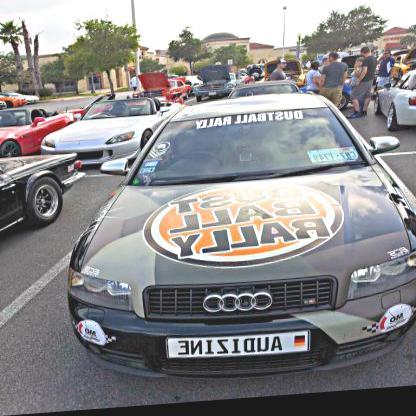License_Plate: (163, 328, 312, 362), (207, 91, 218, 97)
